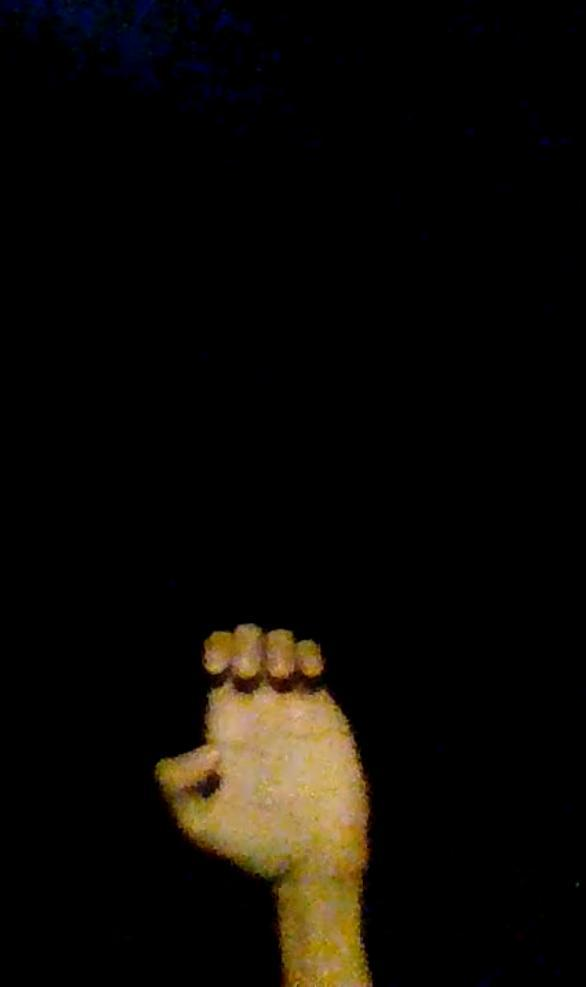e: (154, 623, 374, 880)
